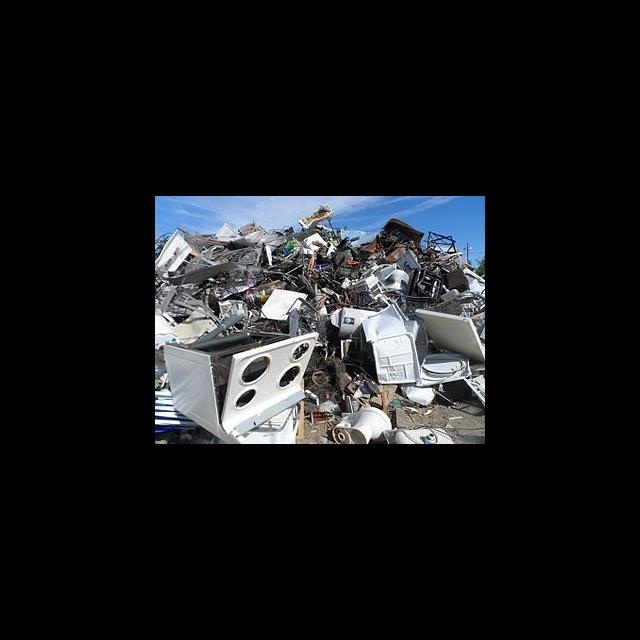metal: (157, 330, 342, 442), (354, 299, 475, 402), (411, 304, 484, 365), (327, 401, 398, 443), (257, 283, 312, 325), (379, 423, 456, 443)
